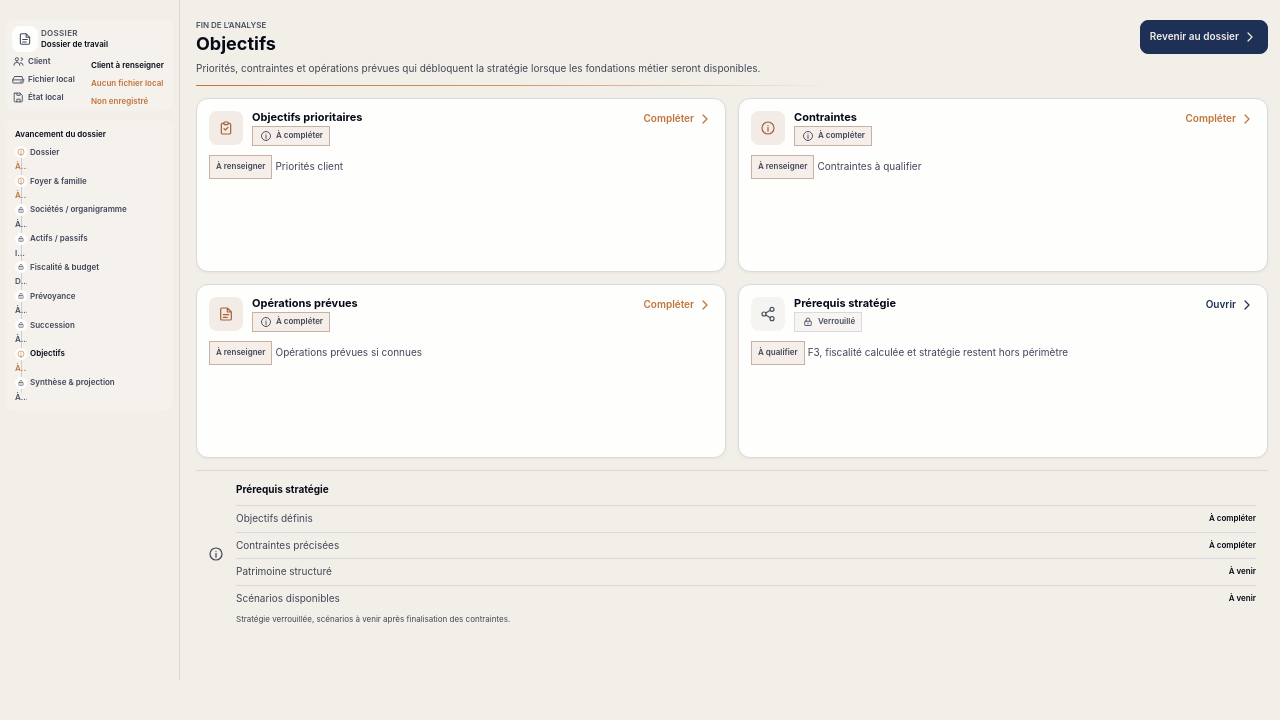
Test: ObjectifsPage › clarifie les prérequis stratégie et le drawer de sélection
Expected: the 1st heading "Prérequis stratégie" is shown, [794,296,896,310]
Click the button "Objectifs prioritaires": coordinates (226, 128) [196,98,726,272]
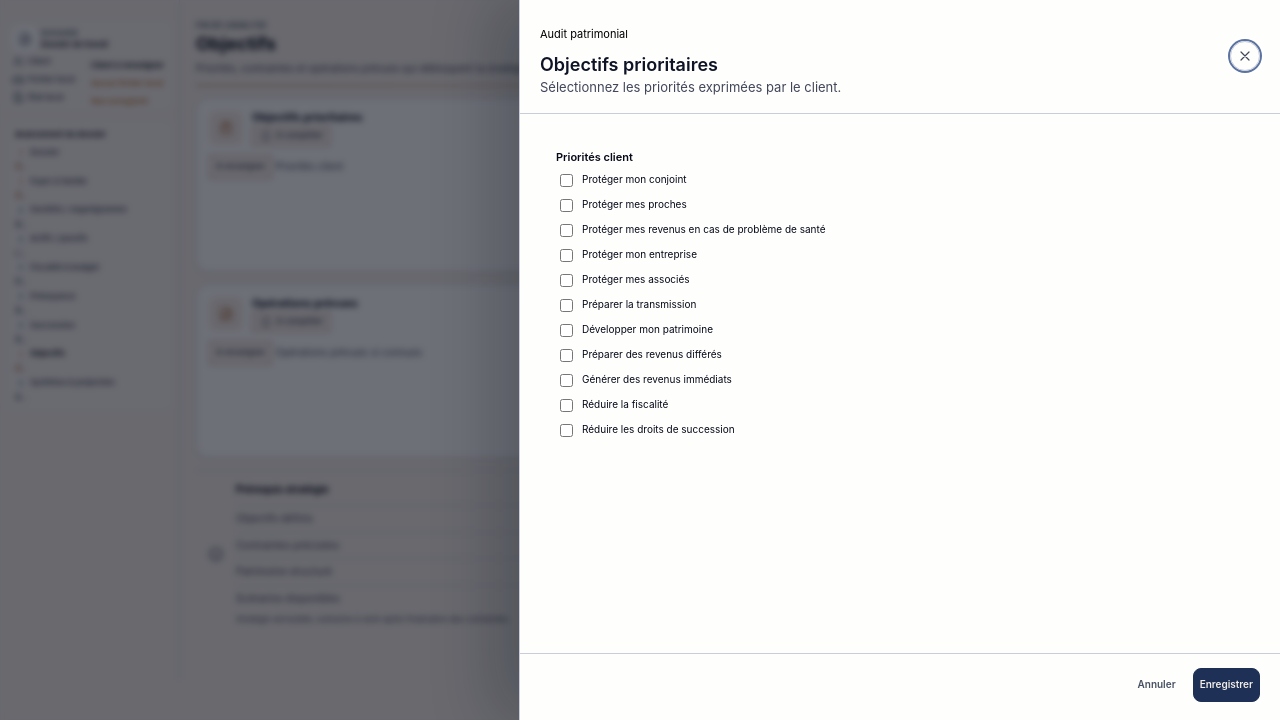
Now the text "Sélectionnez les priorités exprimées par le client." is shown, box [540,79,841,97]
